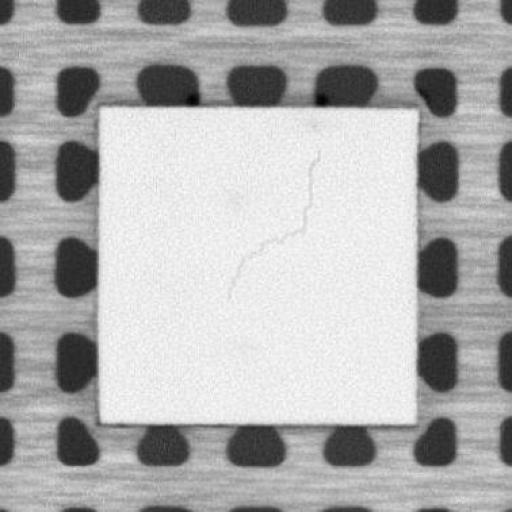DIE_CRACK: (224, 146, 325, 294)
